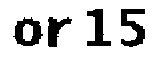1: (82, 4, 114, 49)
5: (118, 6, 149, 50)
o: (10, 17, 44, 50)
r: (46, 15, 74, 52)
